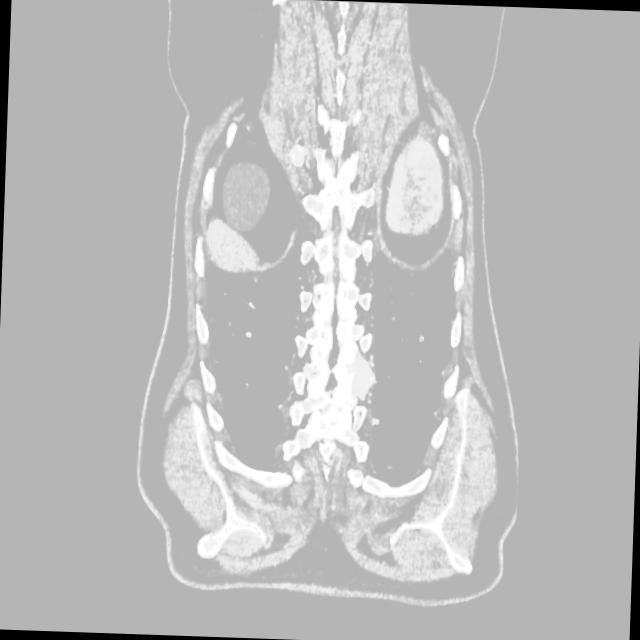TUMOR: (168, 59, 547, 391)
